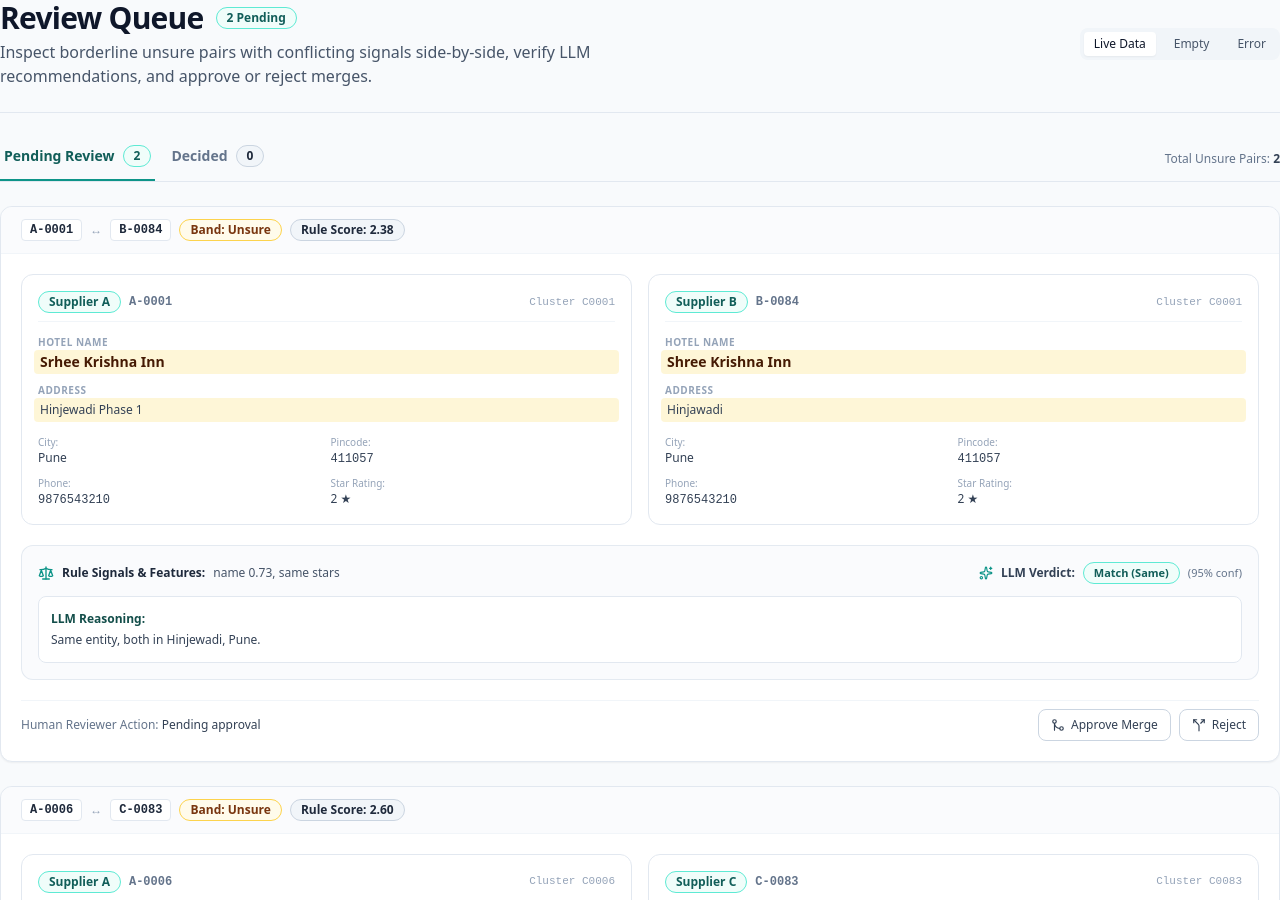
ReviewPage › handles approve merge immediately and records decision
The width and height of the screenshot is (1280, 900).
expect the text "Srhee Krishna Inn" is shown: met, box [34,350,619,374]
Click the button "Approve Merge" at (1104, 724), box [1038,708,1171,740]
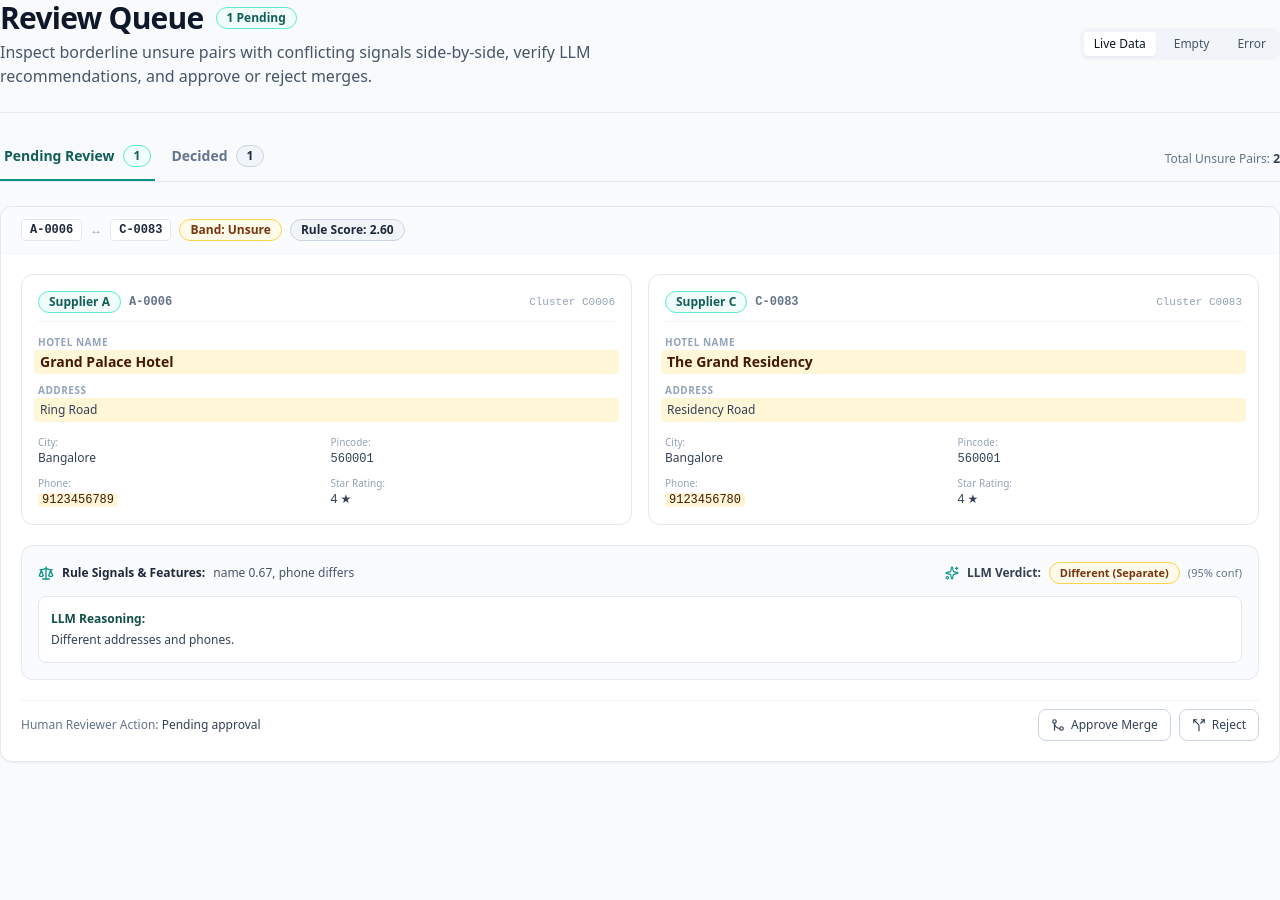
# Switch to Decided tab to see the saved decision
Click the button "Decided 1" at (218, 163), box [167,145,268,181]
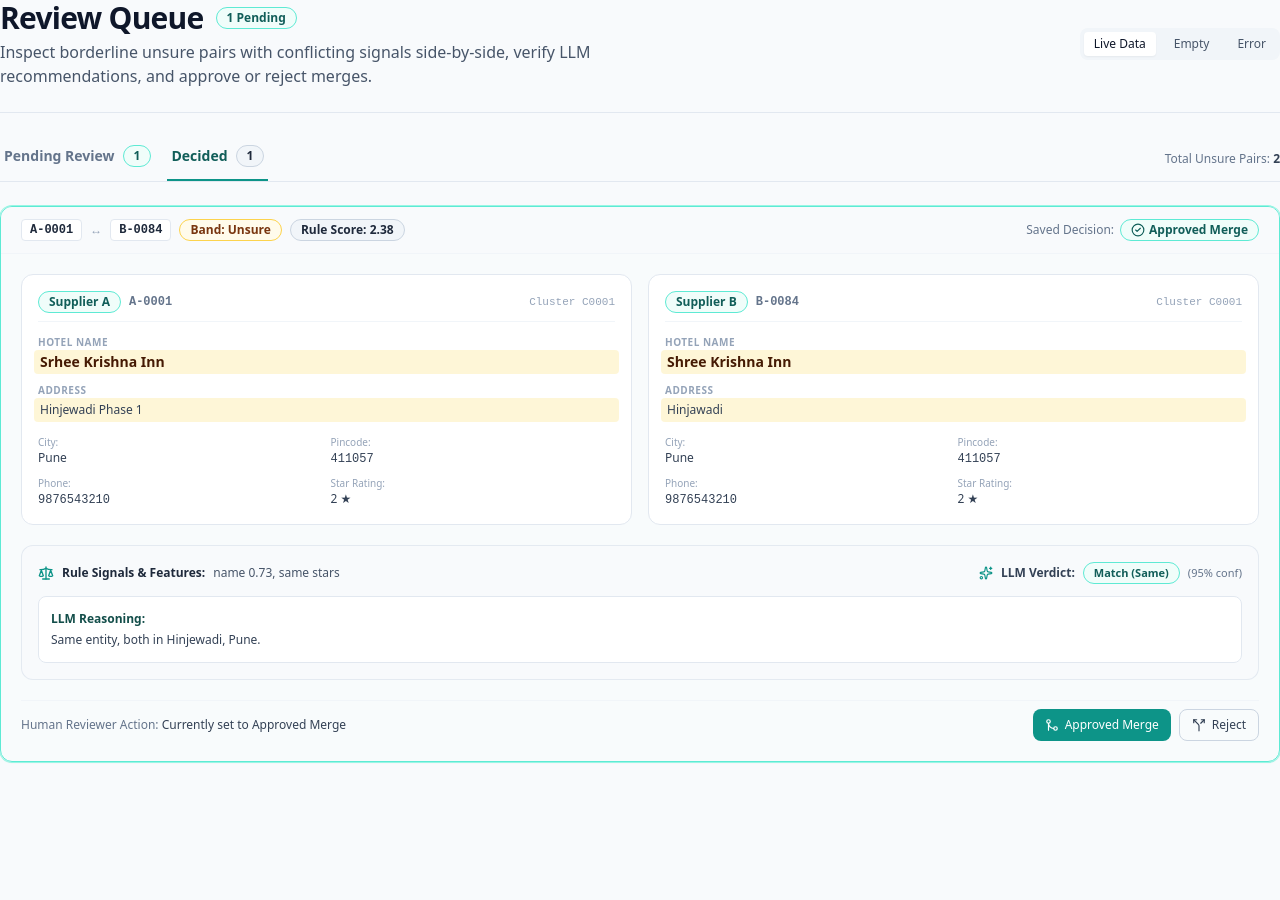
expect the text "Approved Merge" next to "Saved Decision:" is shown: met, box [1149,221,1248,238]
